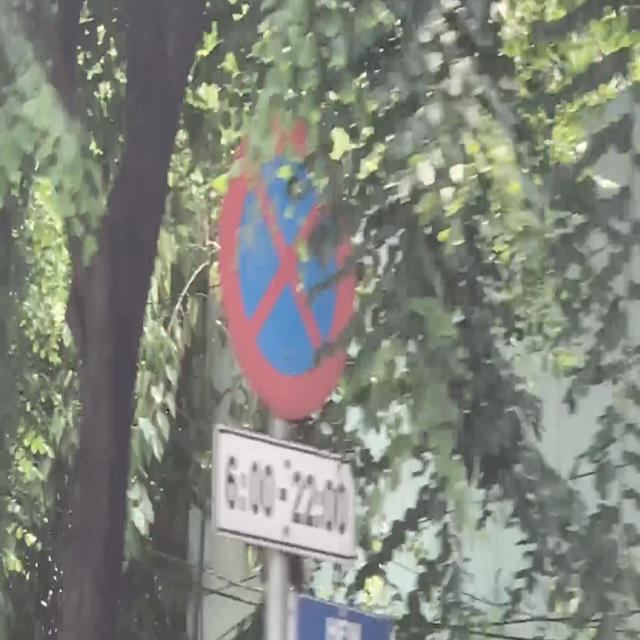Cam dung va do: (219, 106, 359, 420)
